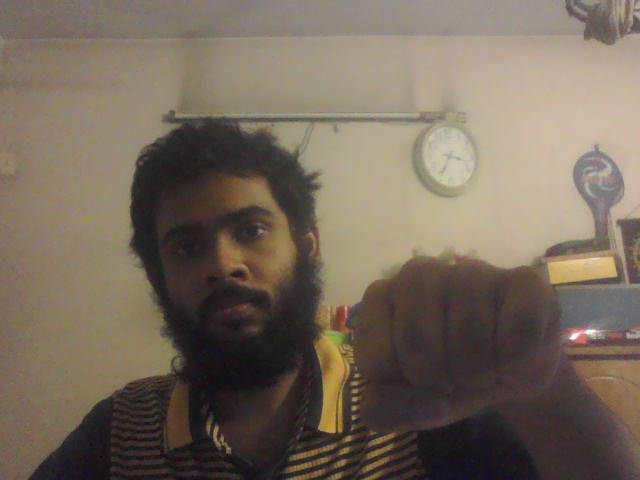Yes: (355, 257, 569, 429)
